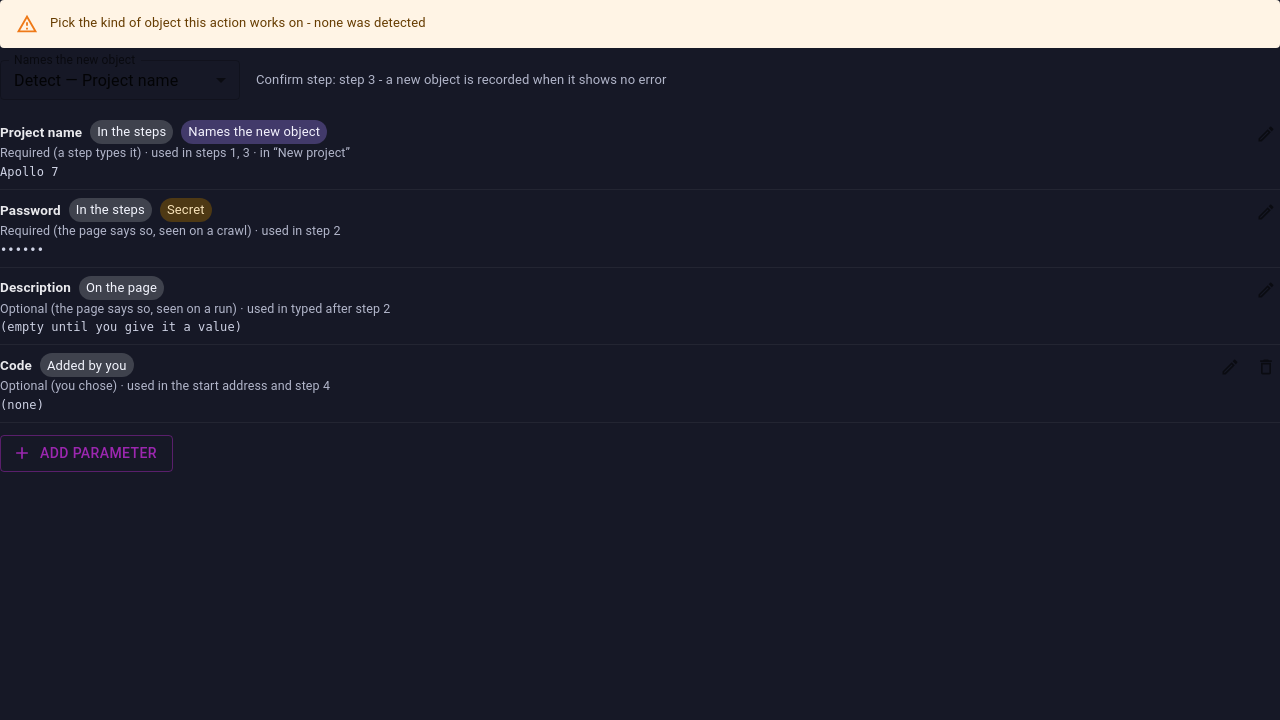
Test: ActionScriptParameters › adds a parameter through the dialog, closing it once added
Click the button "Add parameter". click: (86, 453)
box: [0,435,173,472]
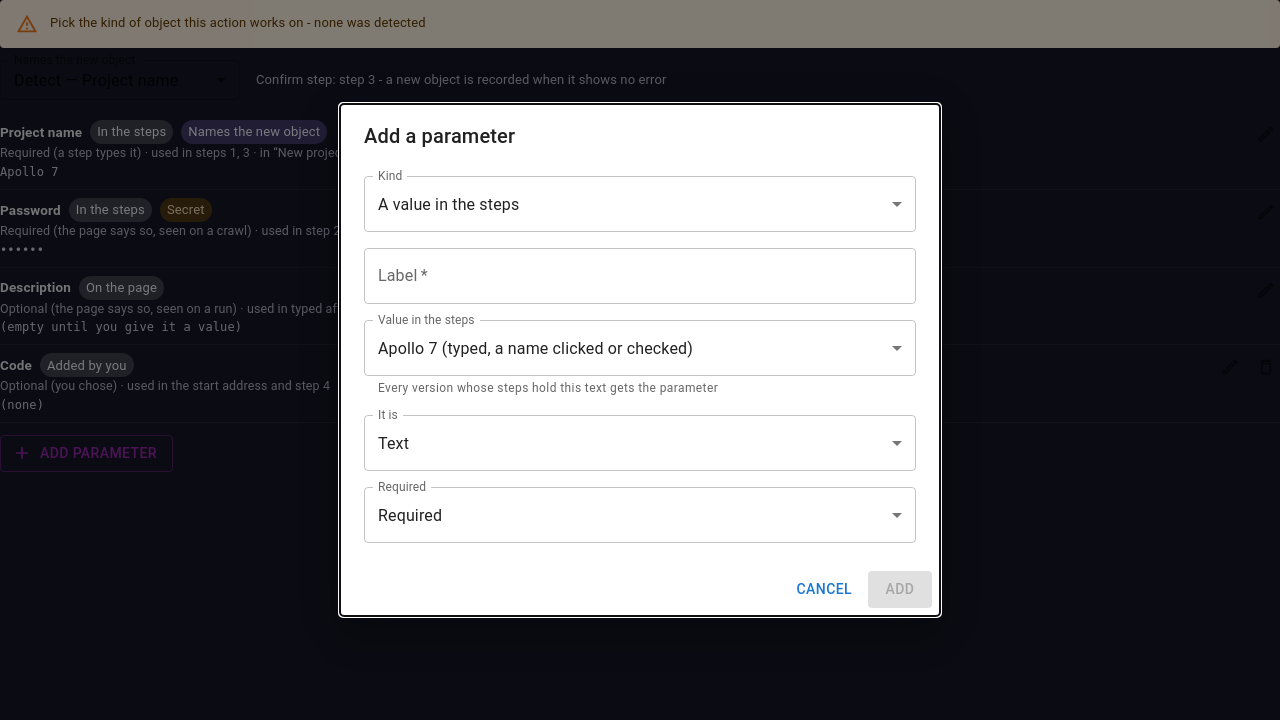
Type "Mission" into the field labelled "Label". click: (640, 276)
box: [364,248,916,304]
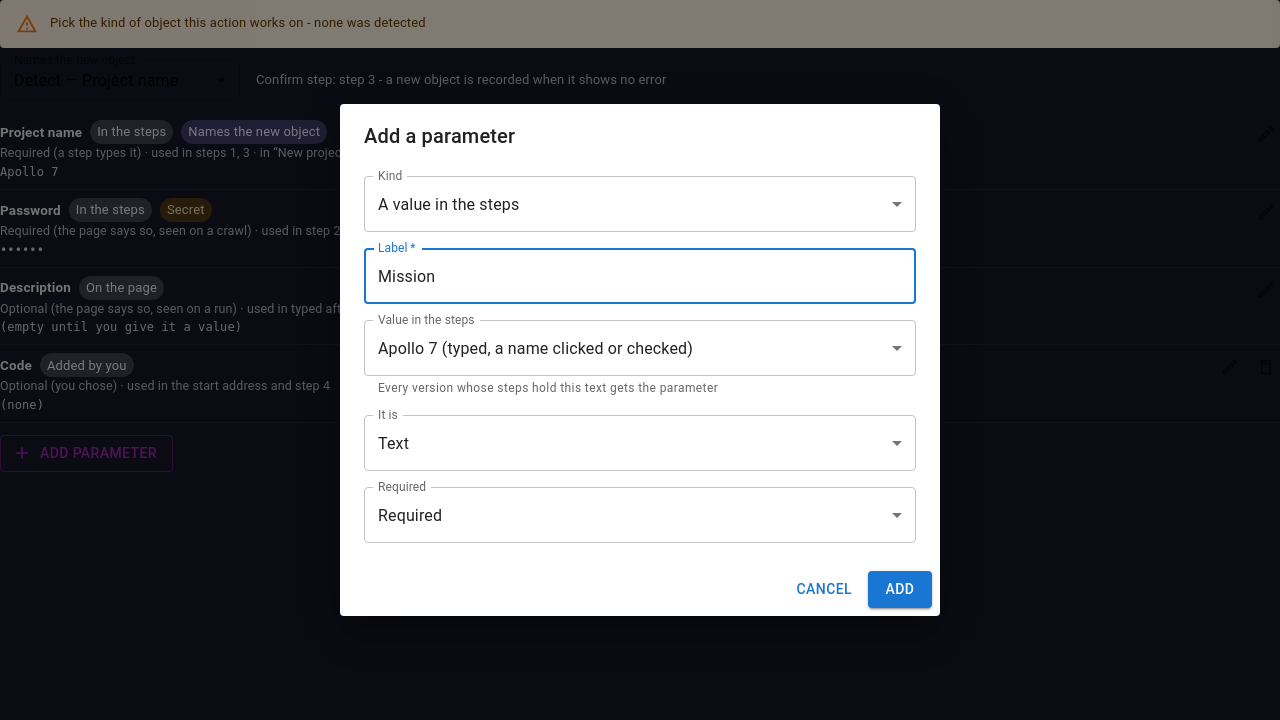
Click the button "Add". click: (900, 589)
box: [868,571,932,608]
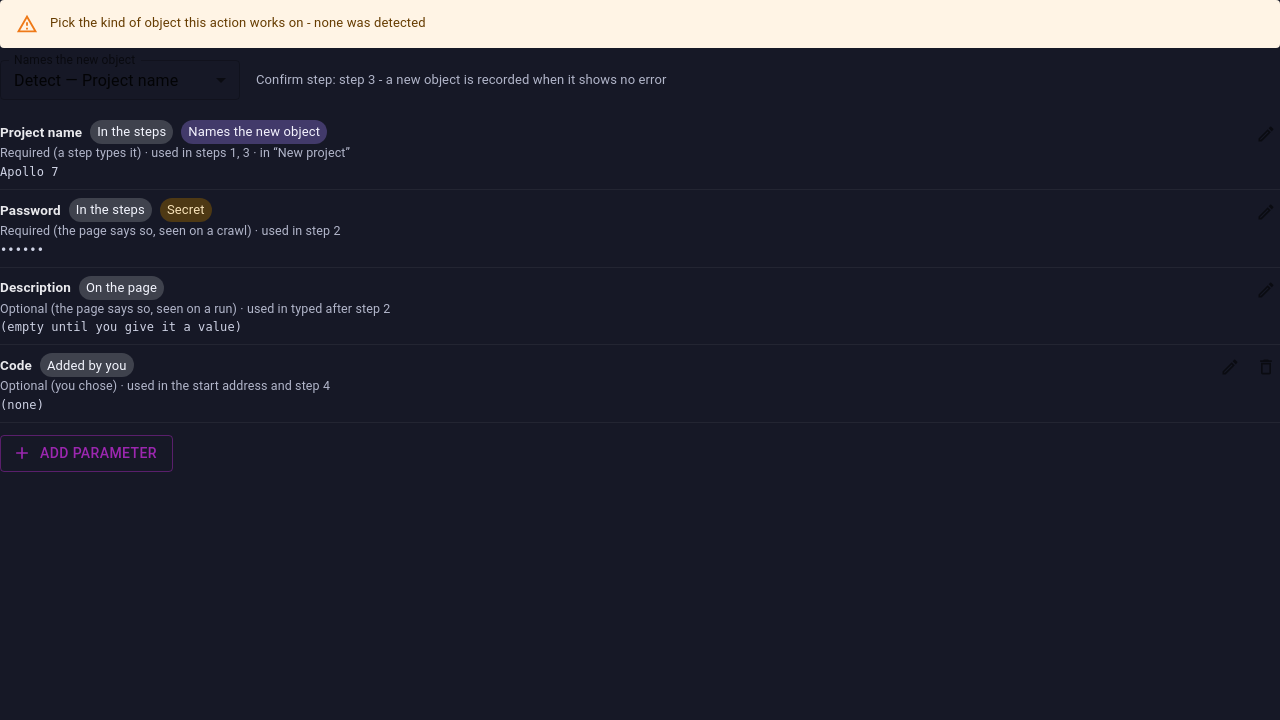
Now the dialog is gone
